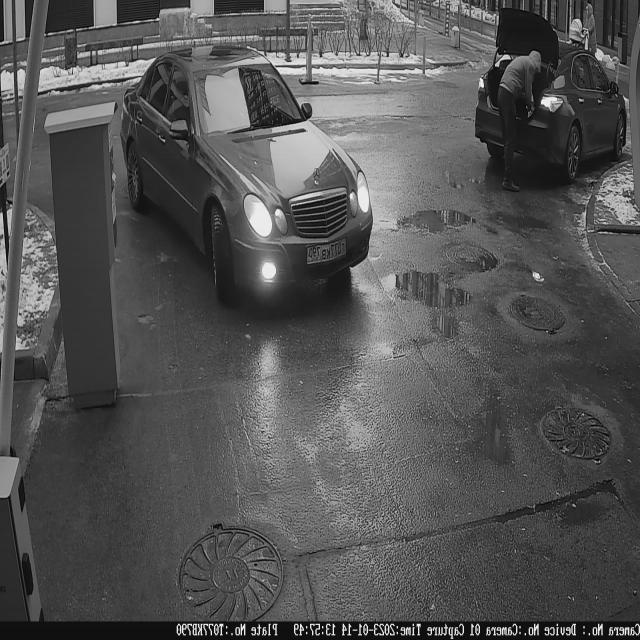car-plate-numbers: (305, 233, 350, 270)
